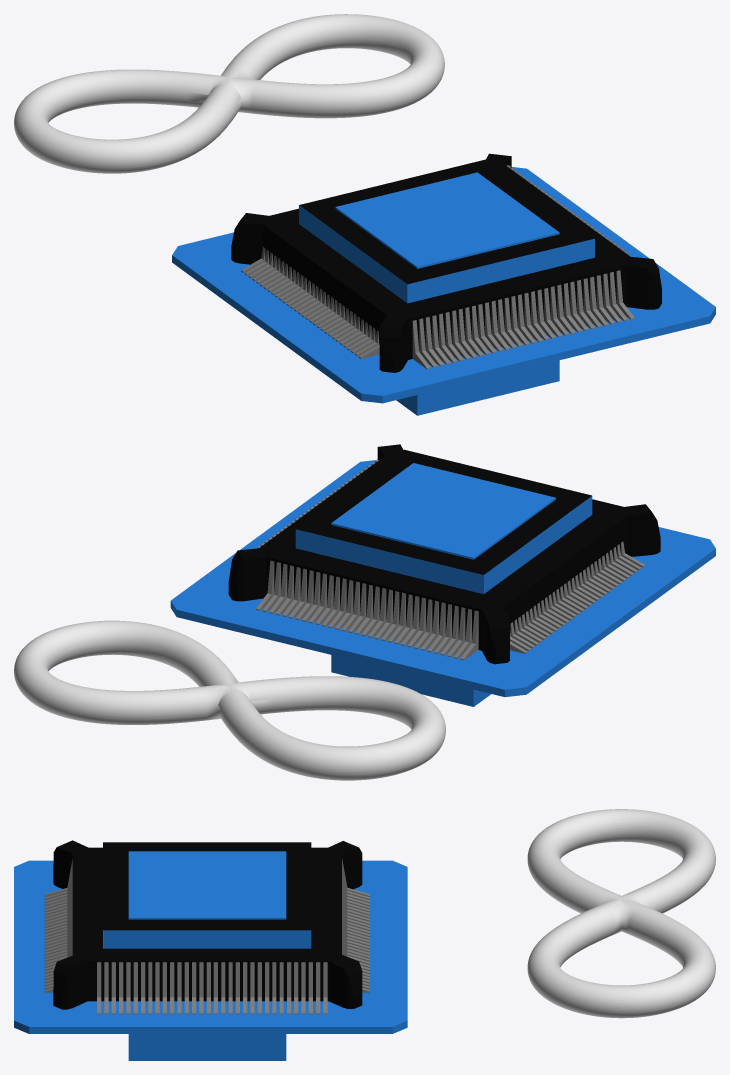
The model's file is chip-new.glb.
3 views of the same model, one above another, from view 1: azimuth 30°, elevation 25°; view 2: azimuth 150°, elevation 25°; view 3: azimuth 270°, elevation 25° (orthographic). The views are drawn at different scales.
Visible parts, largest first — view 1: z-eight, Object_2.002, Object_5.003, Cube, Object_4.006, Object_2.006, Object_4.007; view 2: z-eight, Object_2.002, Object_5.003, Cube, Object_4.006, Object_2.006, Object_4.007; view 3: Object_2.002, z-eight, Object_5.003, Cube, Object_4.007, Object_4.006, Object_2.006.
Boxes of the visible parts, x1,y1,x2,y2 form: z-eight: [14, 14, 444, 173]; Object_2.002: [231, 153, 661, 372]; Object_5.003: [172, 167, 715, 403]; Cube: [335, 172, 559, 415]; Object_4.006: [333, 230, 634, 369]; Object_2.006: [299, 205, 594, 303]; Object_4.007: [241, 165, 628, 358]; z-eight: [14, 620, 445, 780]; Object_2.002: [228, 444, 660, 664]; Object_5.003: [170, 460, 715, 696]; Cube: [331, 463, 555, 706]; Object_4.006: [256, 517, 562, 660]; Object_2.006: [295, 496, 592, 593]; Object_4.007: [257, 459, 645, 653]; Object_2.002: [53, 840, 362, 1009]; z-eight: [527, 809, 715, 1018]; Object_5.003: [14, 860, 407, 1033]; Cube: [128, 851, 286, 1060]; Object_4.007: [97, 962, 327, 1014]; Object_4.006: [44, 858, 369, 992]; Object_2.006: [103, 930, 311, 948].
Size of the model in its own units: 2.79 by 0.9778 by 4.35.
